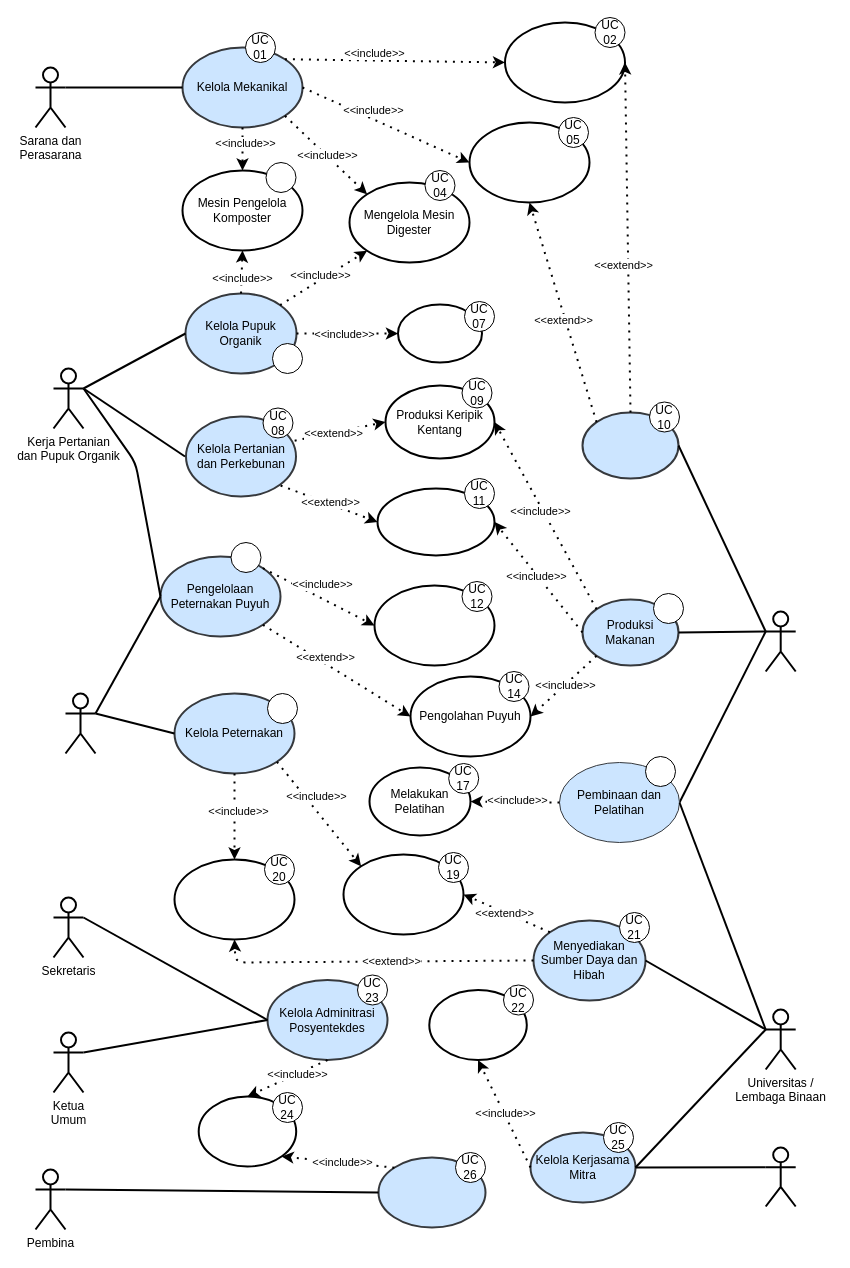
The diagram is 850 pixels wide and 1268 high, and some of its shapes have lost their labels. The box of each missing label's shape, as (x1, y1, x2, y2) in pixels:
Kelola Peternakan Ikan: (342, 853, 464, 935)
Kelola Peternakan Kambing: (173, 858, 295, 940)
Kelola Posyantekdes: (377, 1156, 486, 1228)
Kerja Humas & Teknologi Informasi: (764, 1146, 796, 1207)
Kerja Peternakan: (64, 692, 96, 754)
Melakukan Kerjasama: (428, 988, 527, 1060)
Mengolah Kascing: (373, 584, 495, 666)
Mesin Produksi Emping Singkong: (468, 121, 590, 203)
Mesin Produksi Keripik Kentang: (504, 21, 626, 103)
Pelaporan Administrasi: (197, 1095, 297, 1167)
Pengguna Layanan: (764, 610, 796, 672)
Penggunaan Layanan: (581, 411, 679, 479)
Produksi Emping Singkong: (376, 487, 495, 556)
Produksi Pupuk: (396, 303, 482, 363)
UC 03: (265, 162, 296, 192)
UC 06: (272, 342, 302, 374)
UC 13: (230, 542, 261, 572)
UC 15: (652, 592, 684, 624)
UC 16: (644, 756, 676, 786)
UC 18: (266, 692, 298, 724)
